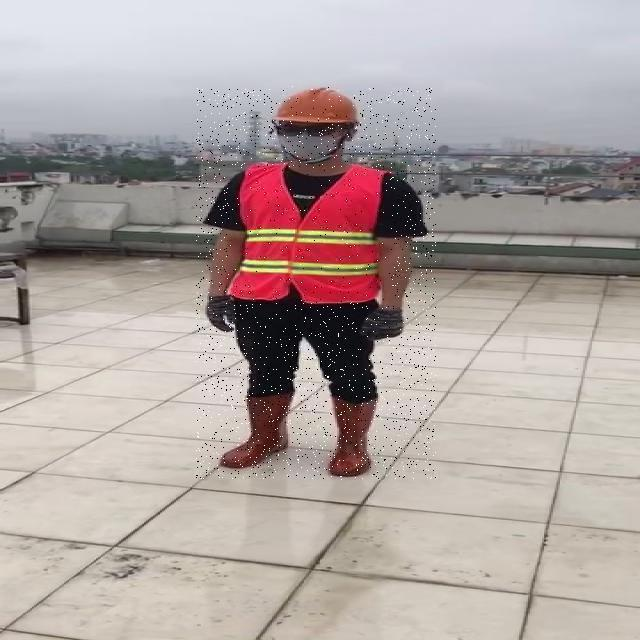gloves: (359, 304, 406, 341), (204, 291, 236, 332)
goggles: (272, 122, 343, 140)
helmet: (273, 84, 359, 124)
safety_vest: (229, 167, 391, 302)
